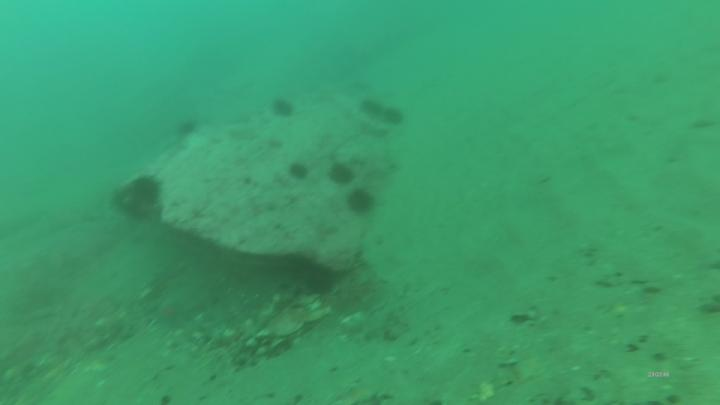echinus: (129, 181, 159, 202), (348, 191, 373, 212), (363, 100, 381, 118), (332, 169, 354, 183), (273, 99, 291, 115), (292, 164, 308, 179), (388, 109, 403, 125), (178, 123, 198, 133)
starfish: (157, 302, 187, 328)
